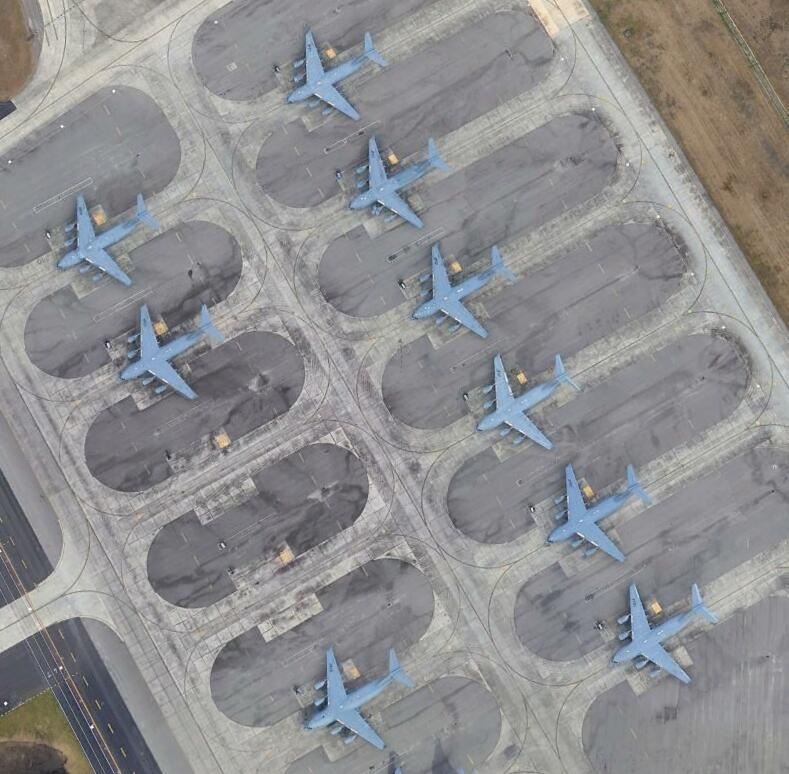A3: (302, 644, 418, 752), (117, 303, 226, 403), (548, 461, 651, 563), (612, 582, 714, 685), (477, 351, 581, 452), (414, 242, 517, 339), (350, 134, 454, 228), (288, 29, 391, 122), (54, 194, 159, 285)
